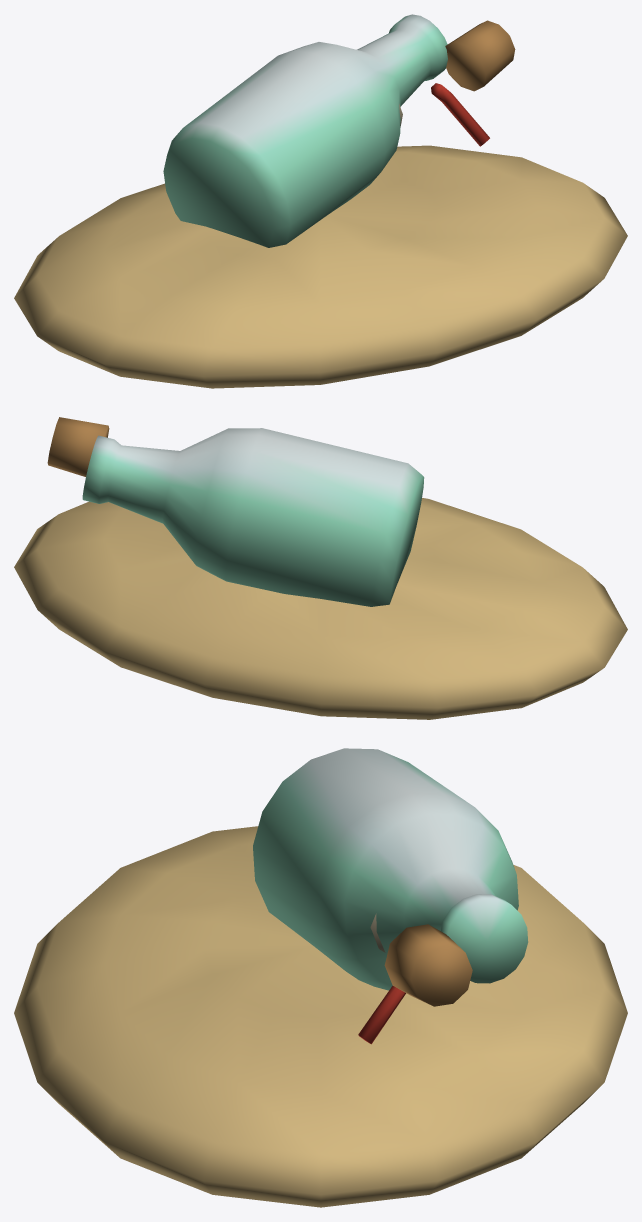
The model's file is message_bottle.glb.
3 renders of one model, top to bottom at view 1: azimuth 30°, elevation 25°; view 2: azimuth 150°, elevation 25°; view 3: azimuth 270°, elevation 25°, orthographic. The views are drawn at different scales.
Parts seen in each view (by area): view 1: Bottle; view 2: Bottle; view 3: Bottle.
Boxes of the visible parts, box(x1,y1,x2,y2) form: Bottle: box(14, 14, 627, 388); Bottle: box(14, 417, 627, 719); Bottle: box(14, 748, 627, 1207).
Bounding box in the file's own units: 0.784 × 0.3093 × 0.56.
